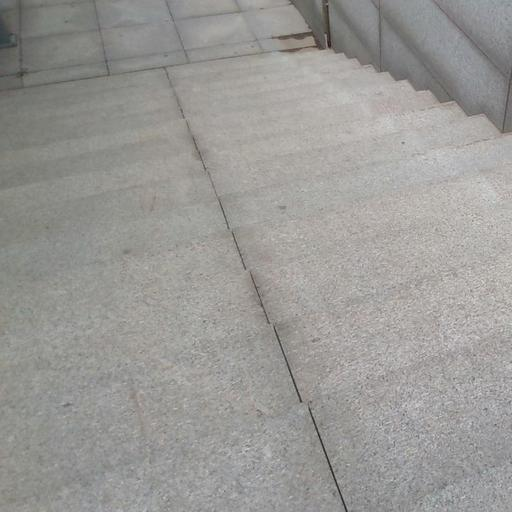stairs: (0, 51, 511, 511), (170, 51, 511, 511)
